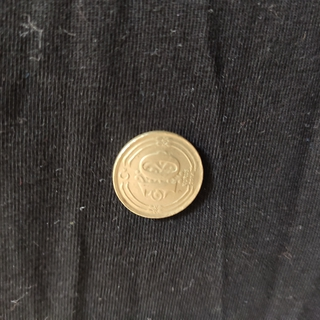10KURUS: (108, 128, 205, 220)
